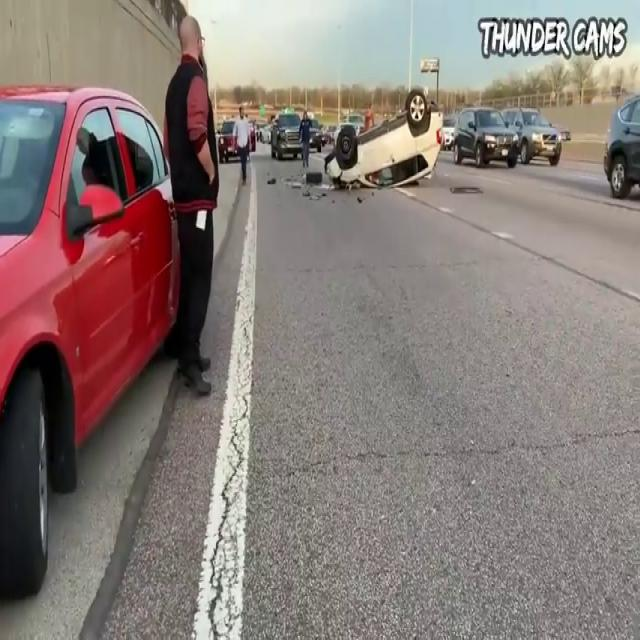accident: (319, 85, 450, 200)
